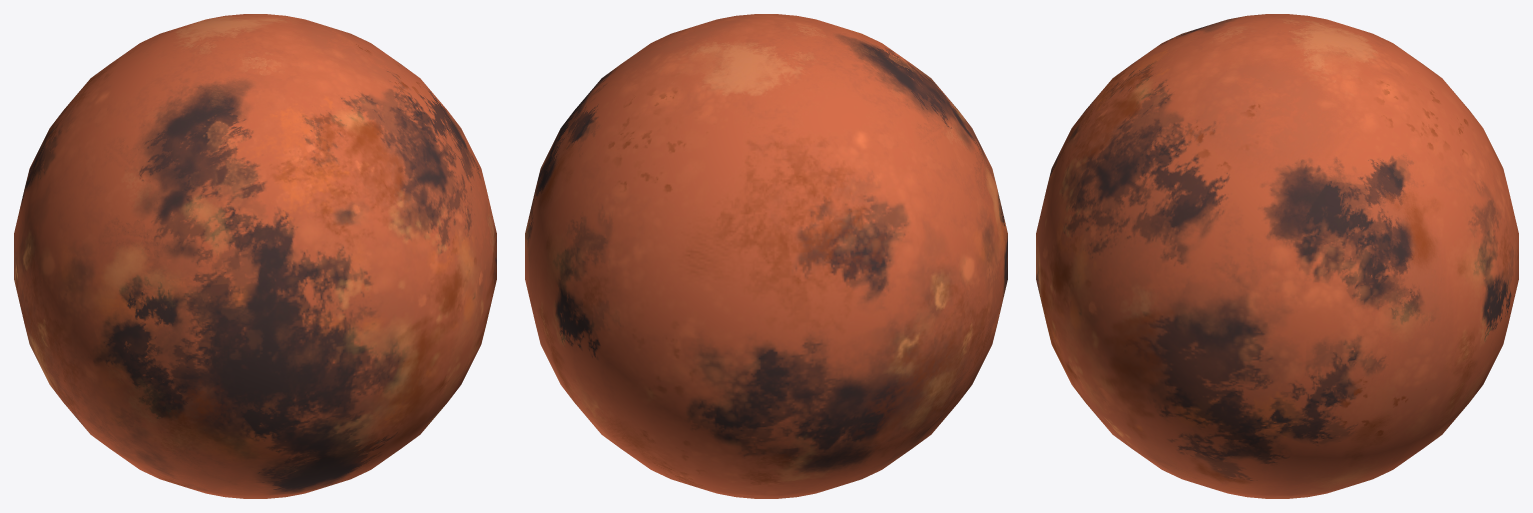
Rendered from marte.glb.
3 views of the same model, side by side, from view 1: azimuth 30°, elevation 25°; view 2: azimuth 150°, elevation 25°; view 3: azimuth 270°, elevation 25° (orthographic).
Visible parts, largest first — view 1: New; view 2: New; view 3: New.
Boxes of the visible parts, <box> form: New: <box>14,14,496,498</box>; New: <box>525,14,1007,498</box>; New: <box>1036,14,1518,498</box>.
Bounding box in the file's own units: 1.2 × 1.22 × 1.21.
1 material, 1 textured.
